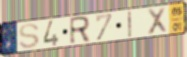4: (42, 19, 61, 48)
7: (95, 13, 113, 42)
I: (127, 10, 133, 39)
R: (68, 15, 92, 46)
S: (18, 23, 41, 50)
X: (146, 6, 168, 37)
